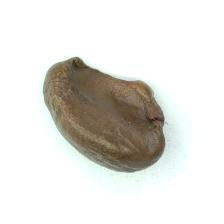NG: (58, 55, 162, 150)
